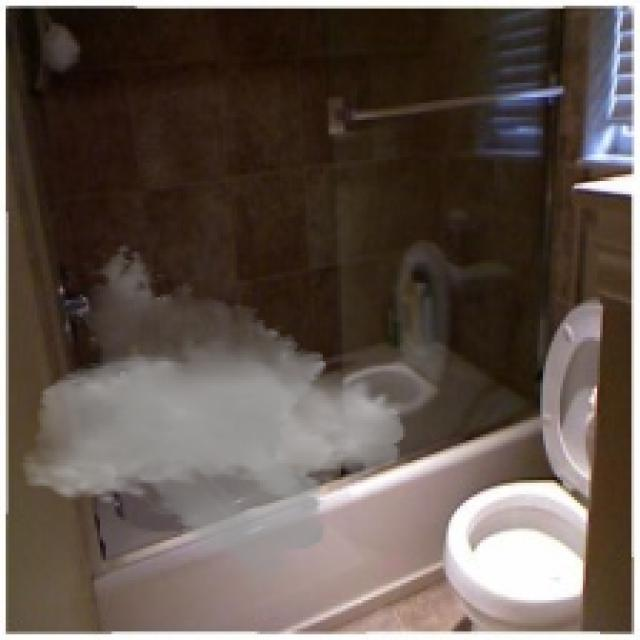smoke: (20, 243, 406, 594)
